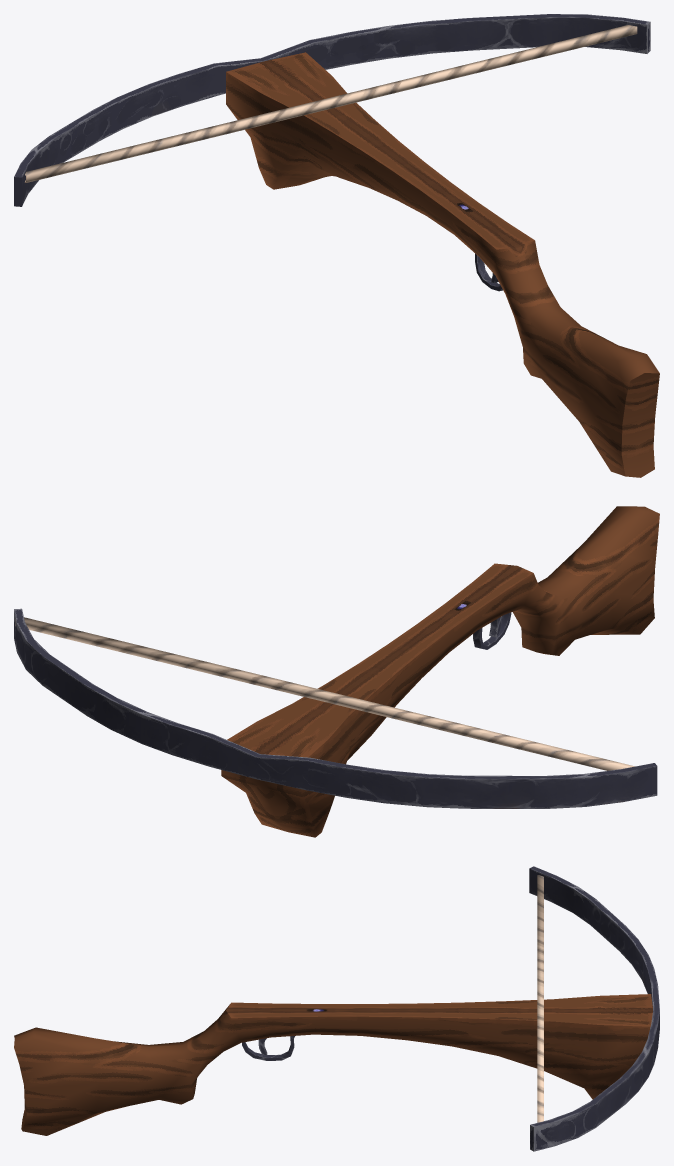
The model's file is Crossbow.glb.
3 renders of one model, top to bottom at view 1: azimuth 30°, elevation 25°; view 2: azimuth 150°, elevation 25°; view 3: azimuth 270°, elevation 25°, orthographic. The views are drawn at different scales.
Parts seen in each view (by area): view 1: crossbow; view 2: crossbow; view 3: crossbow.
Part boxes in pixels (bbox=[...]): crossbow: bbox=[14, 14, 659, 477]; crossbow: bbox=[14, 506, 659, 837]; crossbow: bbox=[14, 866, 659, 1151].
Size of the model in its own units: 0.91 by 0.2187 by 0.9525.
Materials: 1 (1 with a texture image).
